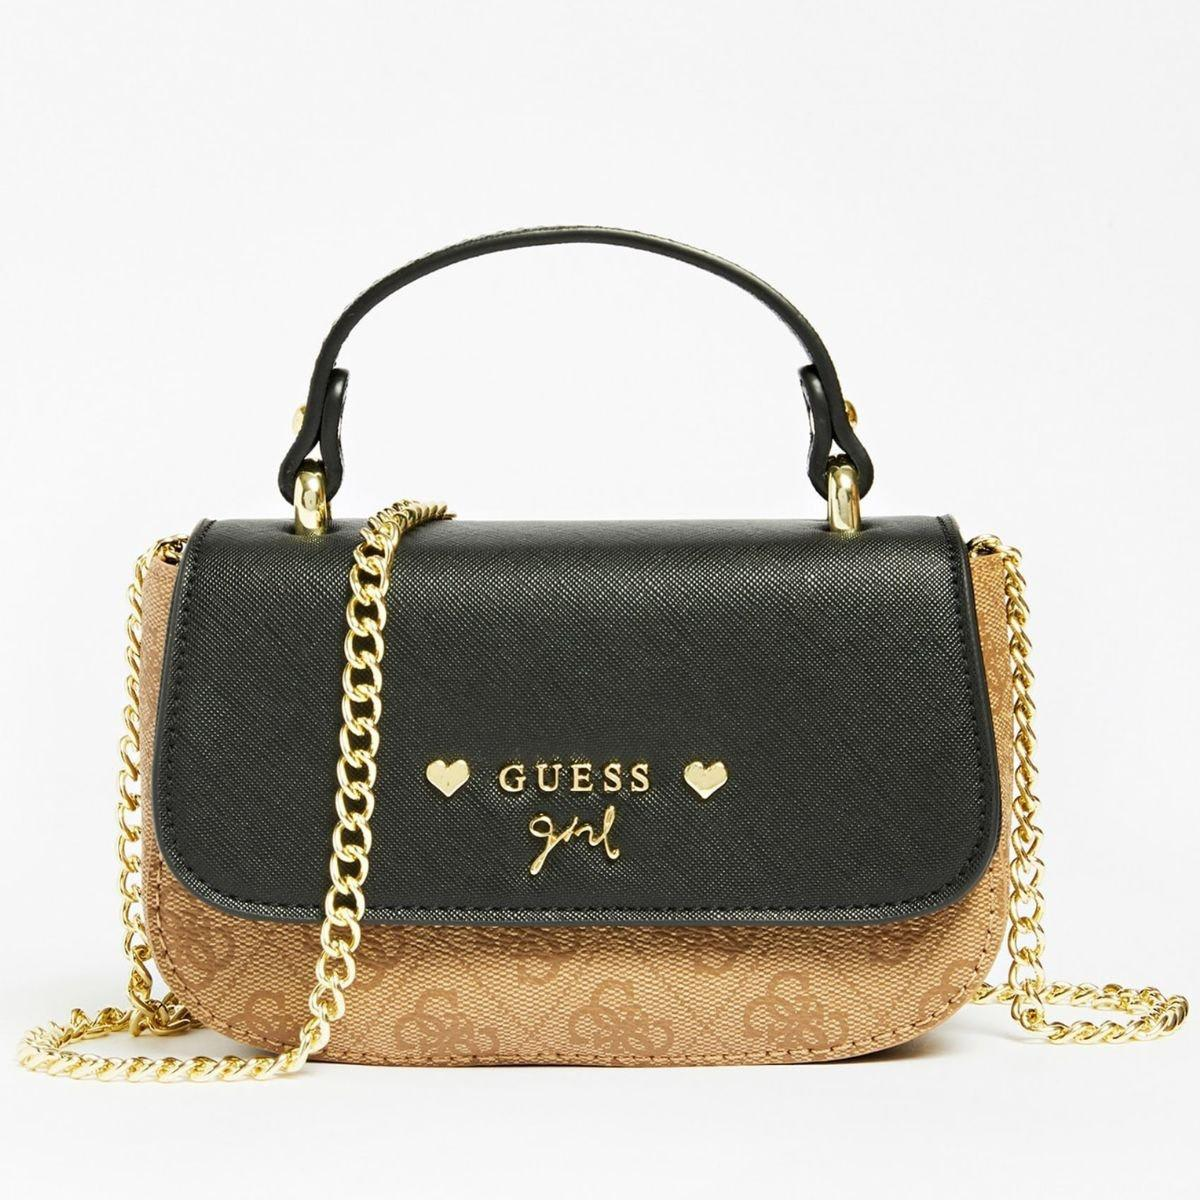GUESS: (498, 762, 649, 793)
